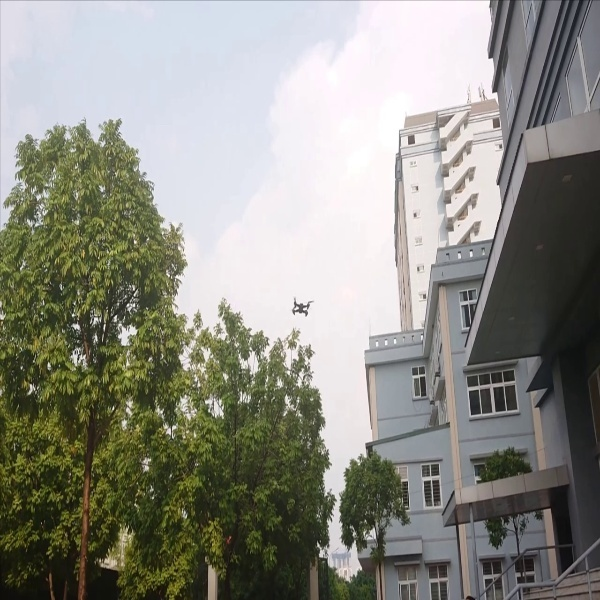drone: (286, 291, 317, 323)
